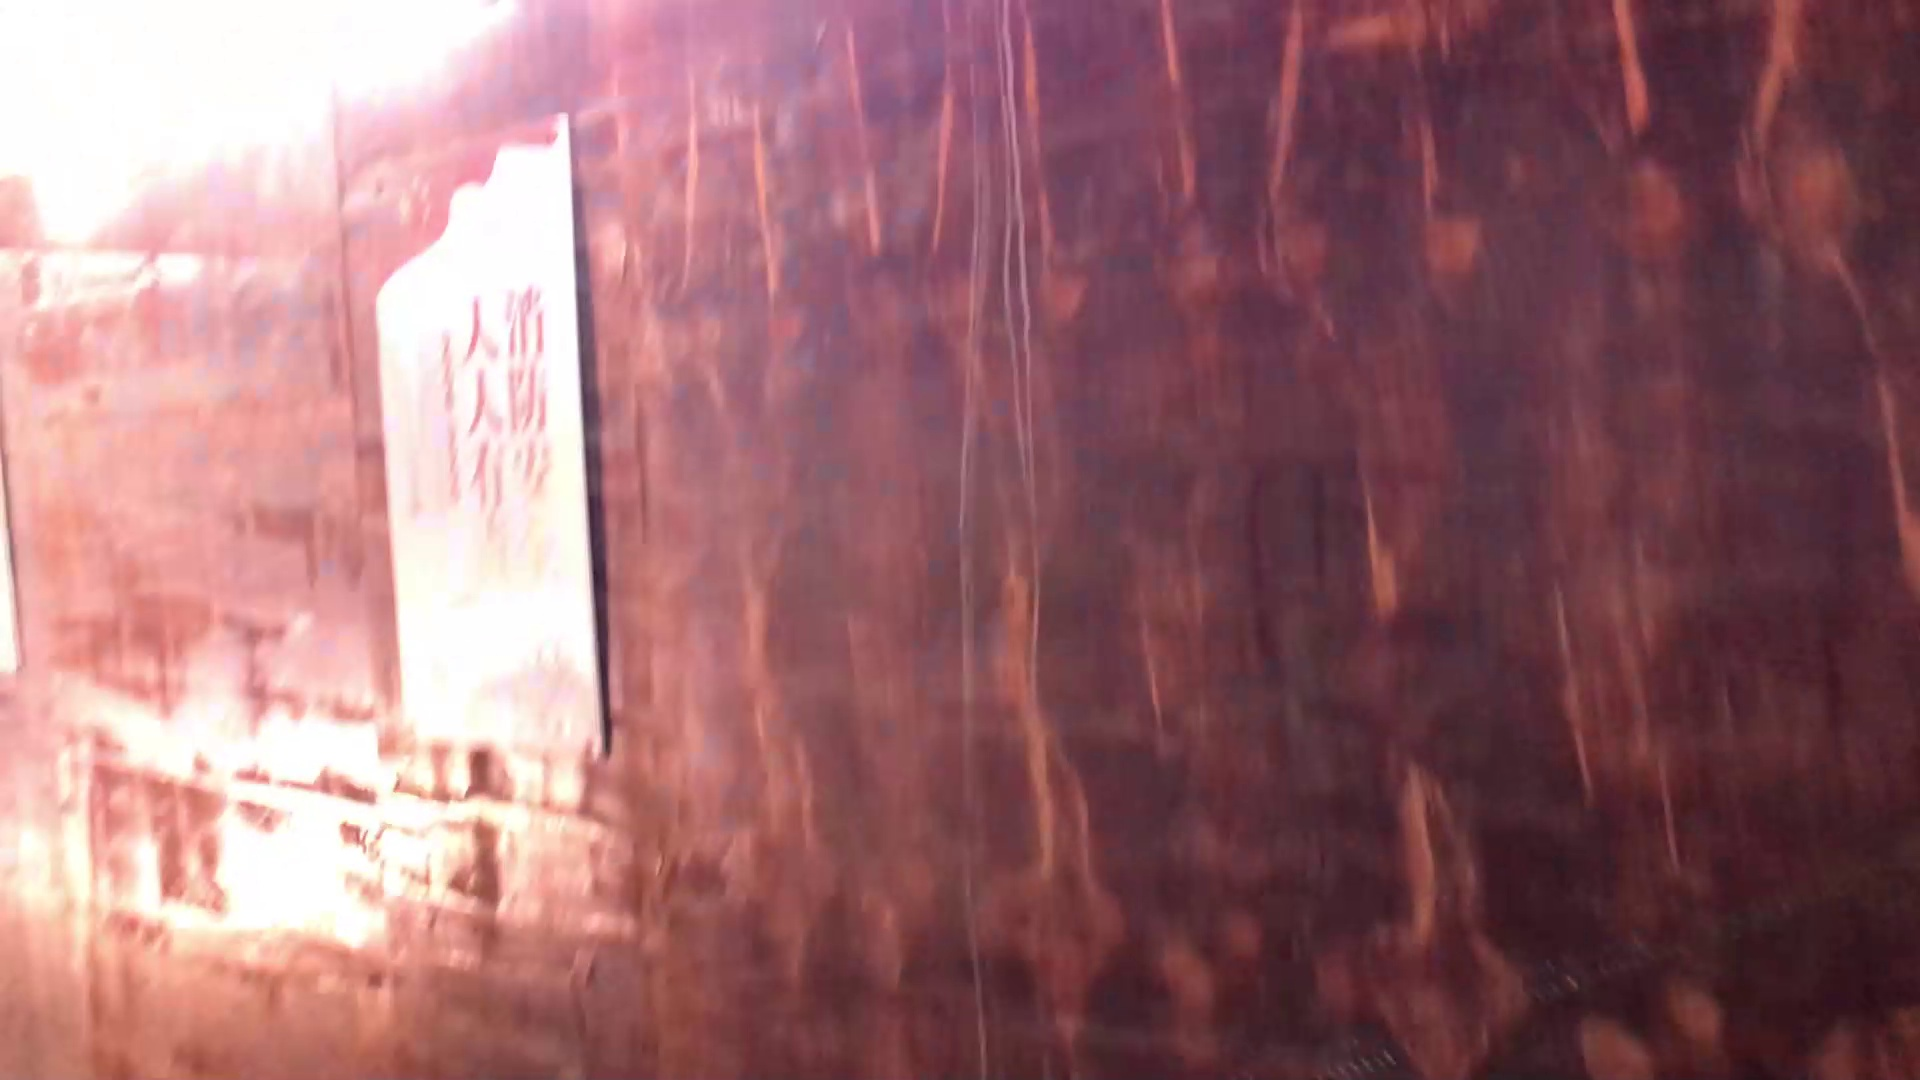slogan: (375, 116, 603, 758)
